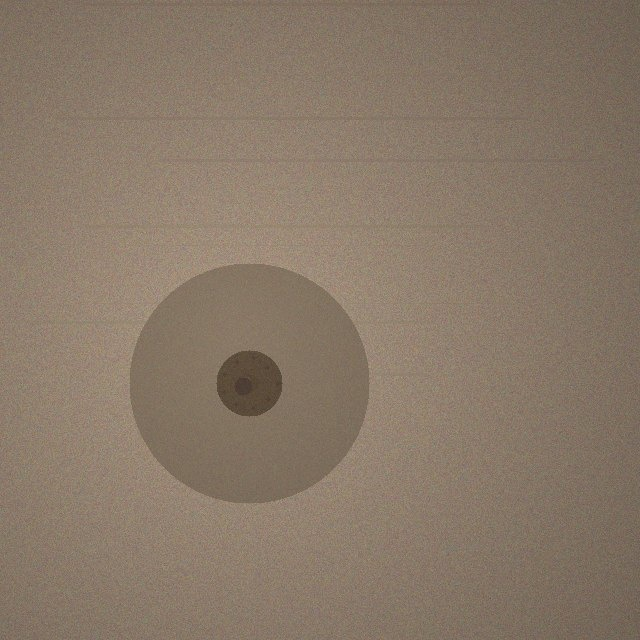cold_weld: (129, 263, 369, 503)
